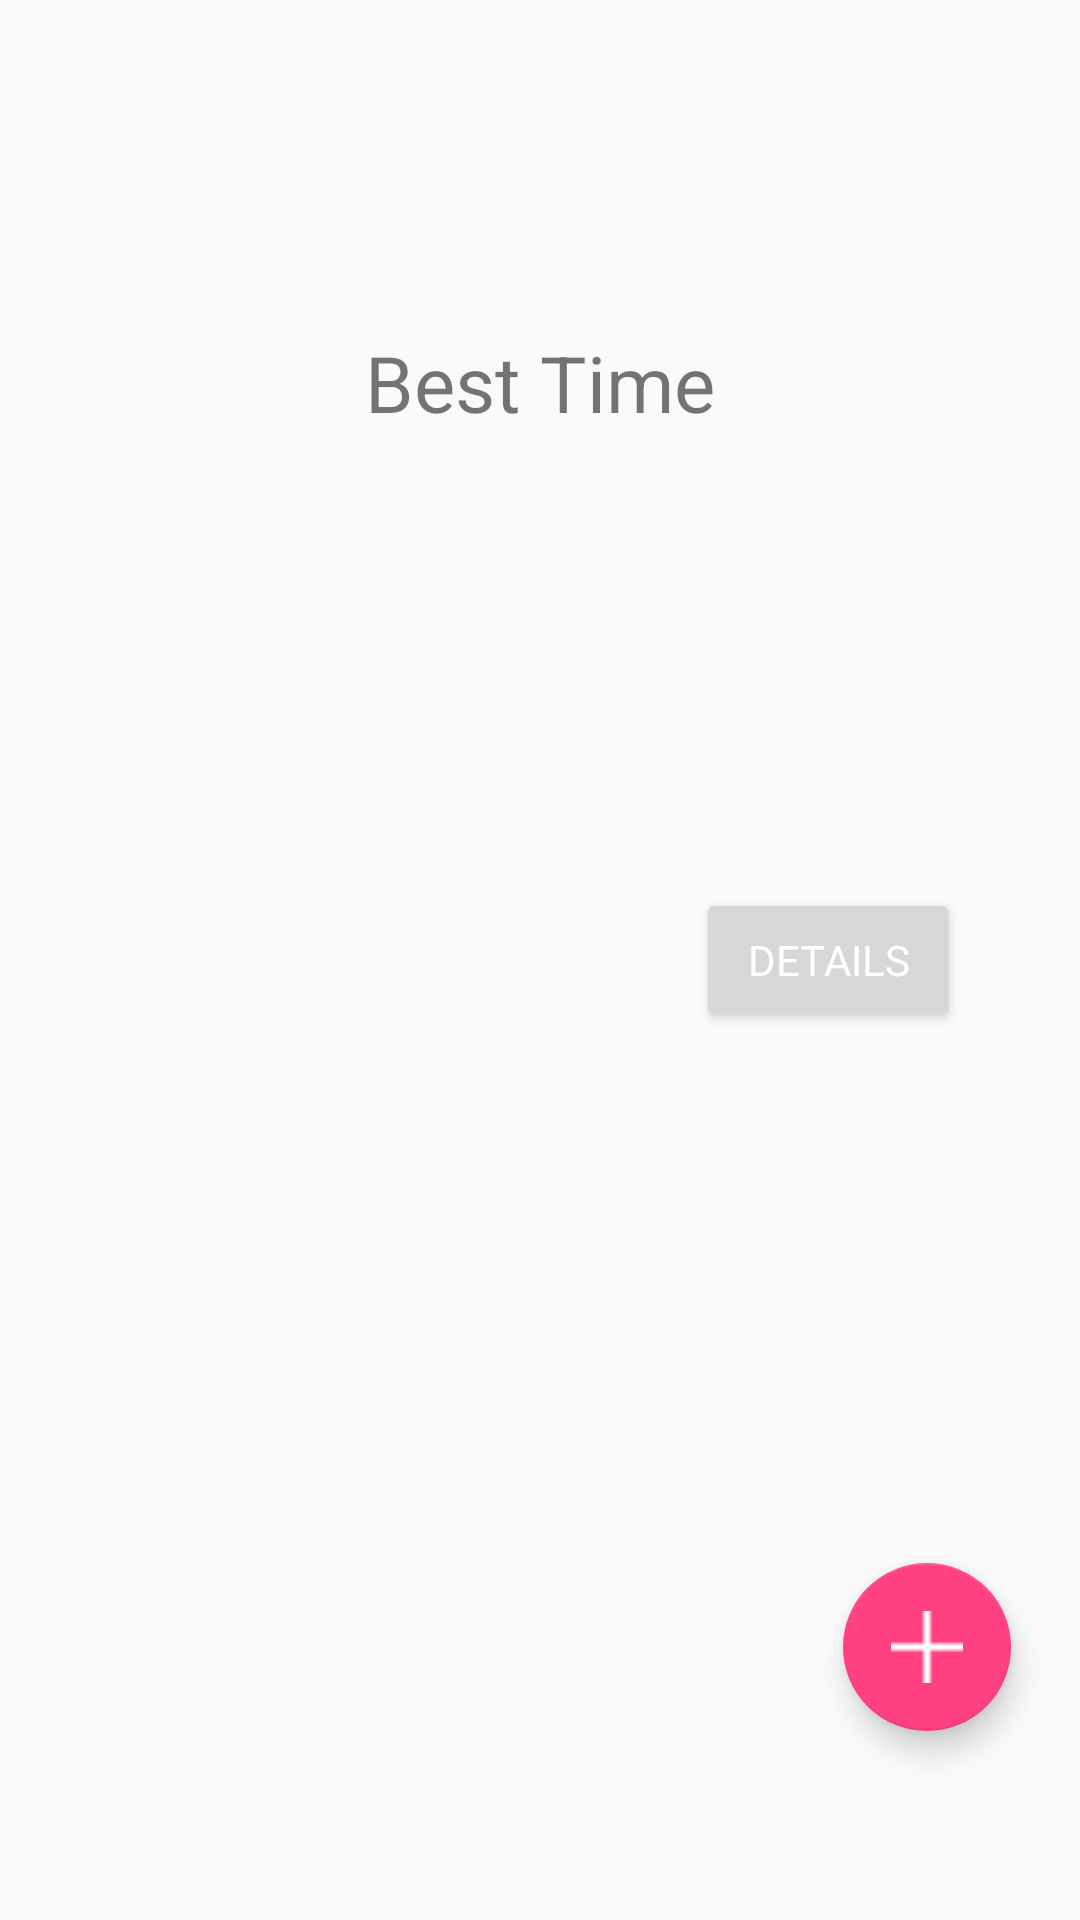

Point at icon controls on the screen. Image size 1080w x 1920h, points as (x=x, y=y).
add: (x=927, y=1647)
